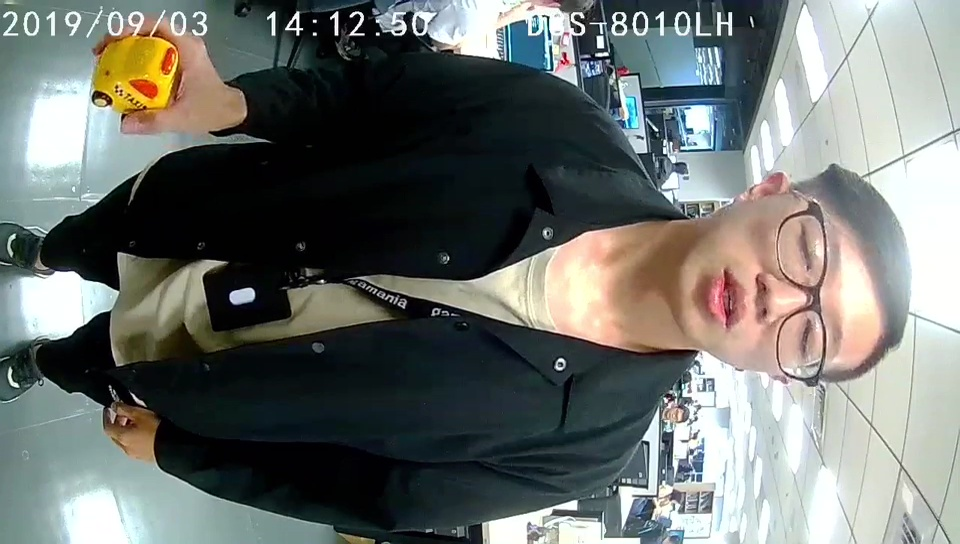car: (94, 39, 176, 110)
